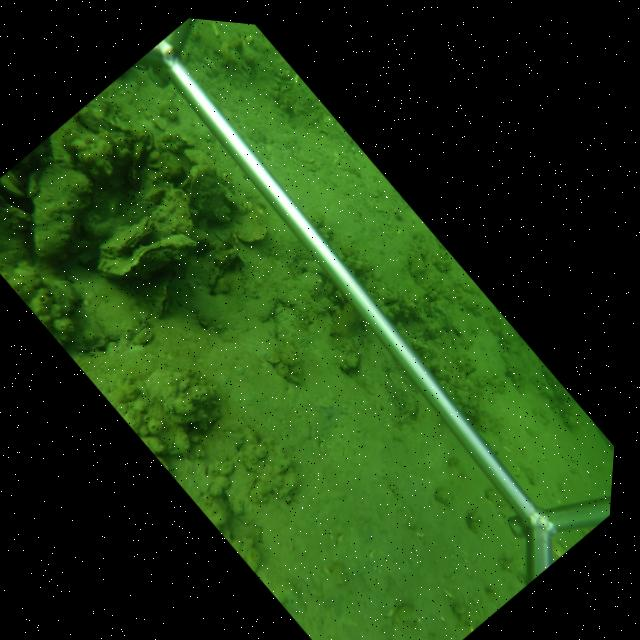Oyster-Closed: (27, 160, 93, 261), (95, 232, 197, 279), (97, 215, 152, 251), (208, 246, 236, 294), (151, 277, 171, 318)
Oyster-Indeterminate: (234, 211, 267, 249), (0, 174, 27, 199)
